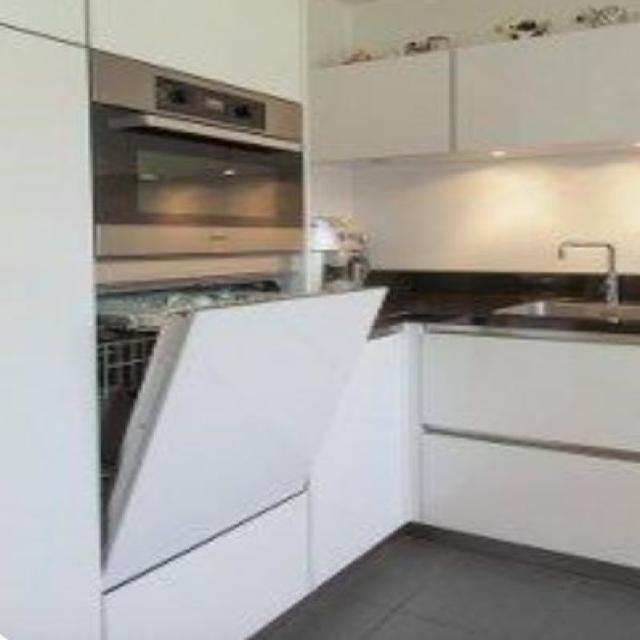dishwasher: (79, 251, 396, 598)
